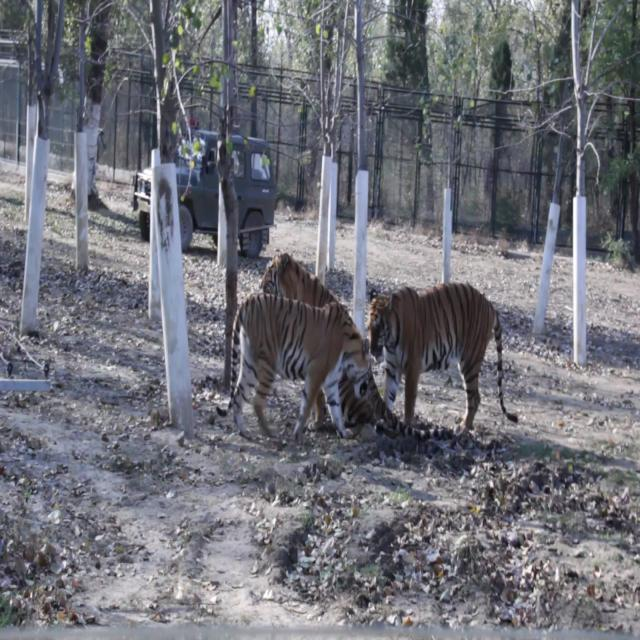Tiger: (213, 288, 373, 454), (372, 273, 516, 455), (260, 247, 388, 433)
